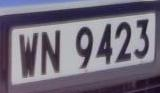2: (114, 15, 135, 69)
3: (133, 14, 153, 65)
4: (96, 17, 116, 71)
9: (73, 20, 96, 75)
N: (39, 27, 66, 81)
W: (16, 29, 41, 82)
